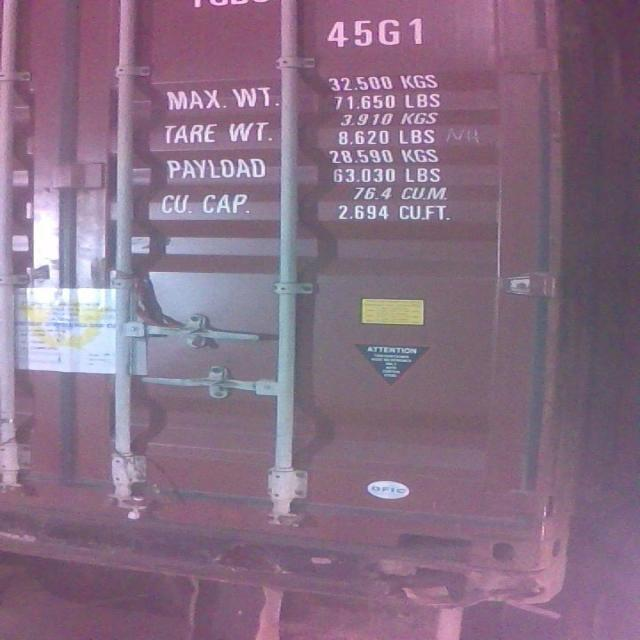seal: (125, 492, 146, 523)
